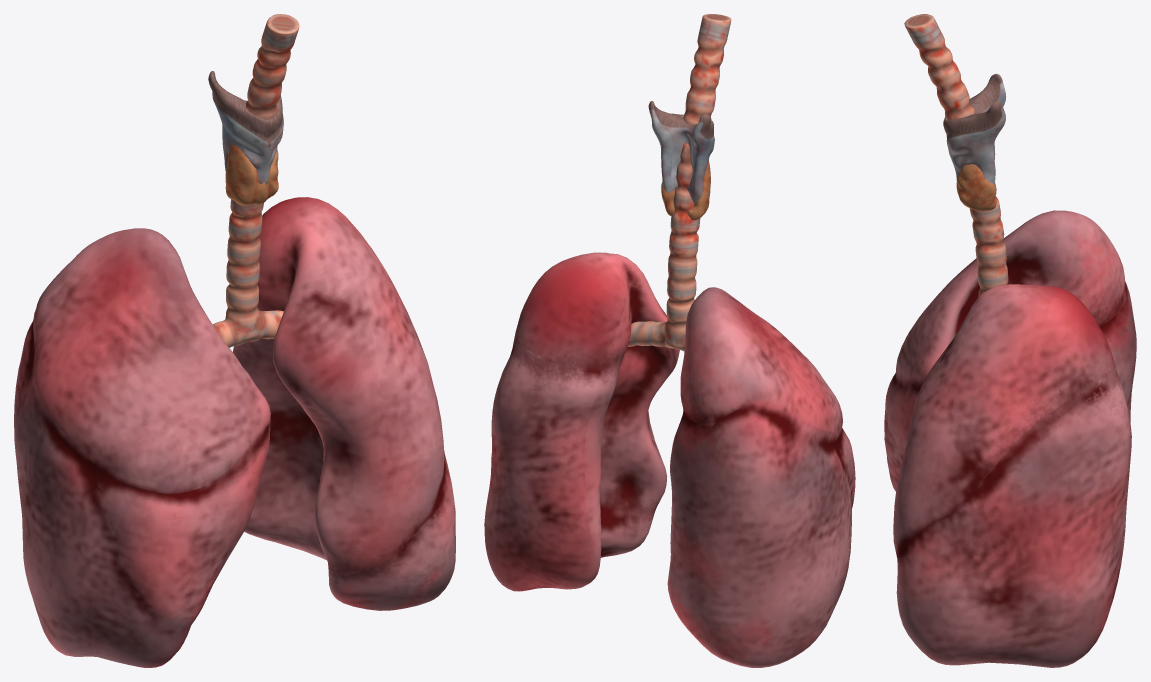
File: lungs.glb
3 renders of one model, left to right at view 1: azimuth 30°, elevation 25°; view 2: azimuth 150°, elevation 25°; view 3: azimuth 270°, elevation 25°, orthographic. The views are drawn at different scales.
Visible parts, largest first — view 1: thairoid01:low_part02_Group6344:Group24638_thairoid01:lungh_, thairoid01:low_part01_Group6344:Group18522_thairoid01:lungh_; view 2: thairoid01:low_part02_Group6344:Group24638_thairoid01:lungh_, thairoid01:low_part01_Group6344:Group18522_thairoid01:lungh_; view 3: thairoid01:low_part02_Group6344:Group24638_thairoid01:lungh_, thairoid01:low_part01_Group6344:Group18522_thairoid01:lungh_.
Boxes of the visible parts, x1,y1,x2,y2 form: thairoid01:low_part02_Group6344:Group24638_thairoid01:lungh_: [14, 197, 455, 667]; thairoid01:low_part01_Group6344:Group18522_thairoid01:lungh_: [208, 14, 299, 347]; thairoid01:low_part02_Group6344:Group24638_thairoid01:lungh_: [484, 252, 855, 667]; thairoid01:low_part01_Group6344:Group18522_thairoid01:lungh_: [627, 14, 731, 351]; thairoid01:low_part02_Group6344:Group24638_thairoid01:lungh_: [884, 210, 1136, 667]; thairoid01:low_part01_Group6344:Group18522_thairoid01:lungh_: [904, 14, 1008, 296].
Size of the model in its own units: 0.2232 by 0.3687 by 0.1424.
Materials: 2 (2 with a texture image).
